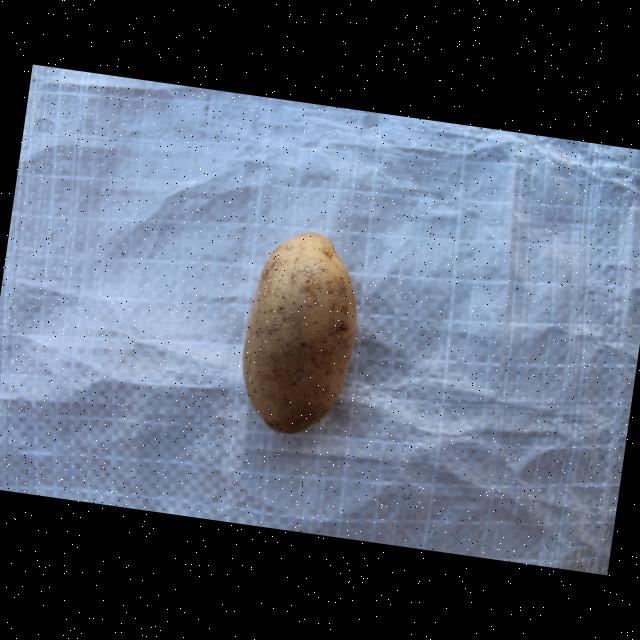Diseased-fungal potato: (232, 224, 372, 443)
